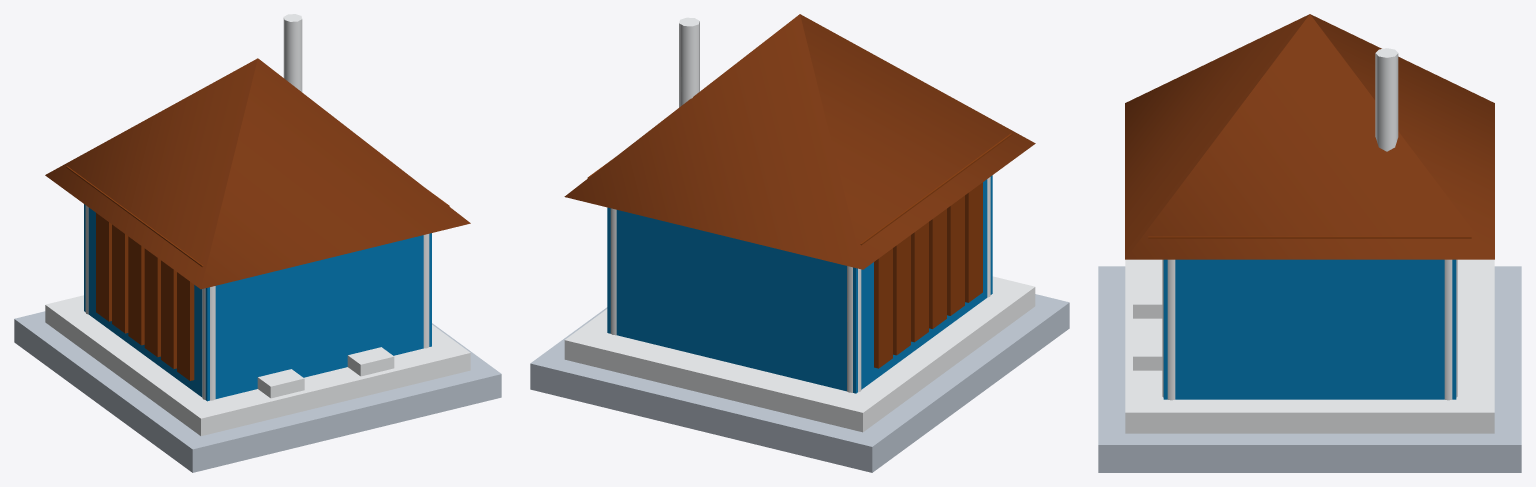
The model's file is bld_resort_c1.glb.
3 renders of one model, left to right at view 1: azimuth 30°, elevation 25°; view 2: azimuth 150°, elevation 25°; view 3: azimuth 270°, elevation 25°, orthographic. The views are drawn at different scales.
Visible parts, largest first — view 1: Bld_Resort_C1_TropicalVilla; view 2: Bld_Resort_C1_TropicalVilla; view 3: Bld_Resort_C1_TropicalVilla.
Boxes of the visible parts, bbox=[...] form: Bld_Resort_C1_TropicalVilla: bbox=[14, 14, 501, 472]; Bld_Resort_C1_TropicalVilla: bbox=[530, 14, 1069, 472]; Bld_Resort_C1_TropicalVilla: bbox=[1098, 14, 1521, 472].
Bounding box in the file's own units: 0.55 × 0.53 × 0.55.
